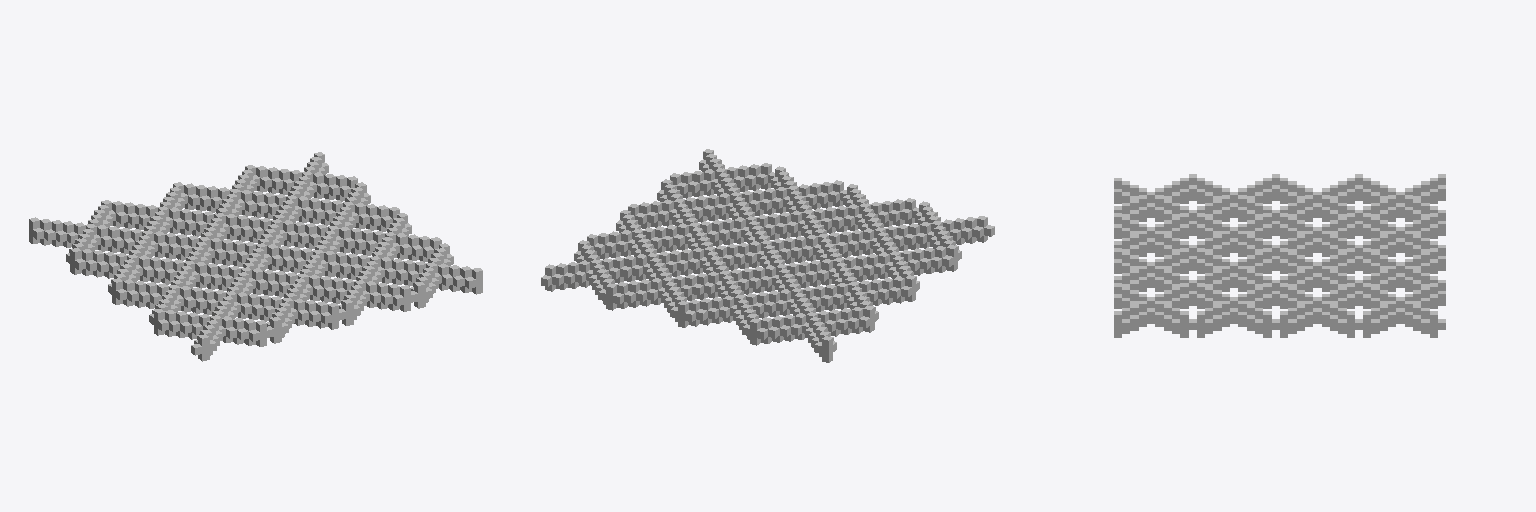
File: Architeture1-14.obj
The picture shows the model from 3 angles: view 1: azimuth 30°, elevation 25°; view 2: azimuth 150°, elevation 25°; view 3: azimuth 270°, elevation 25°; orthographic projection.
Visible parts, largest first — view 1: object 1; view 2: object 1; view 3: object 1.
Part boxes in pixels (left/top/right/bottom): object 1: left=29, top=152, right=482, bottom=361; object 1: left=541, top=149, right=994, bottom=362; object 1: left=1114, top=174, right=1445, bottom=337.
Size of the model in its own units: 4 by 0.3 by 4.